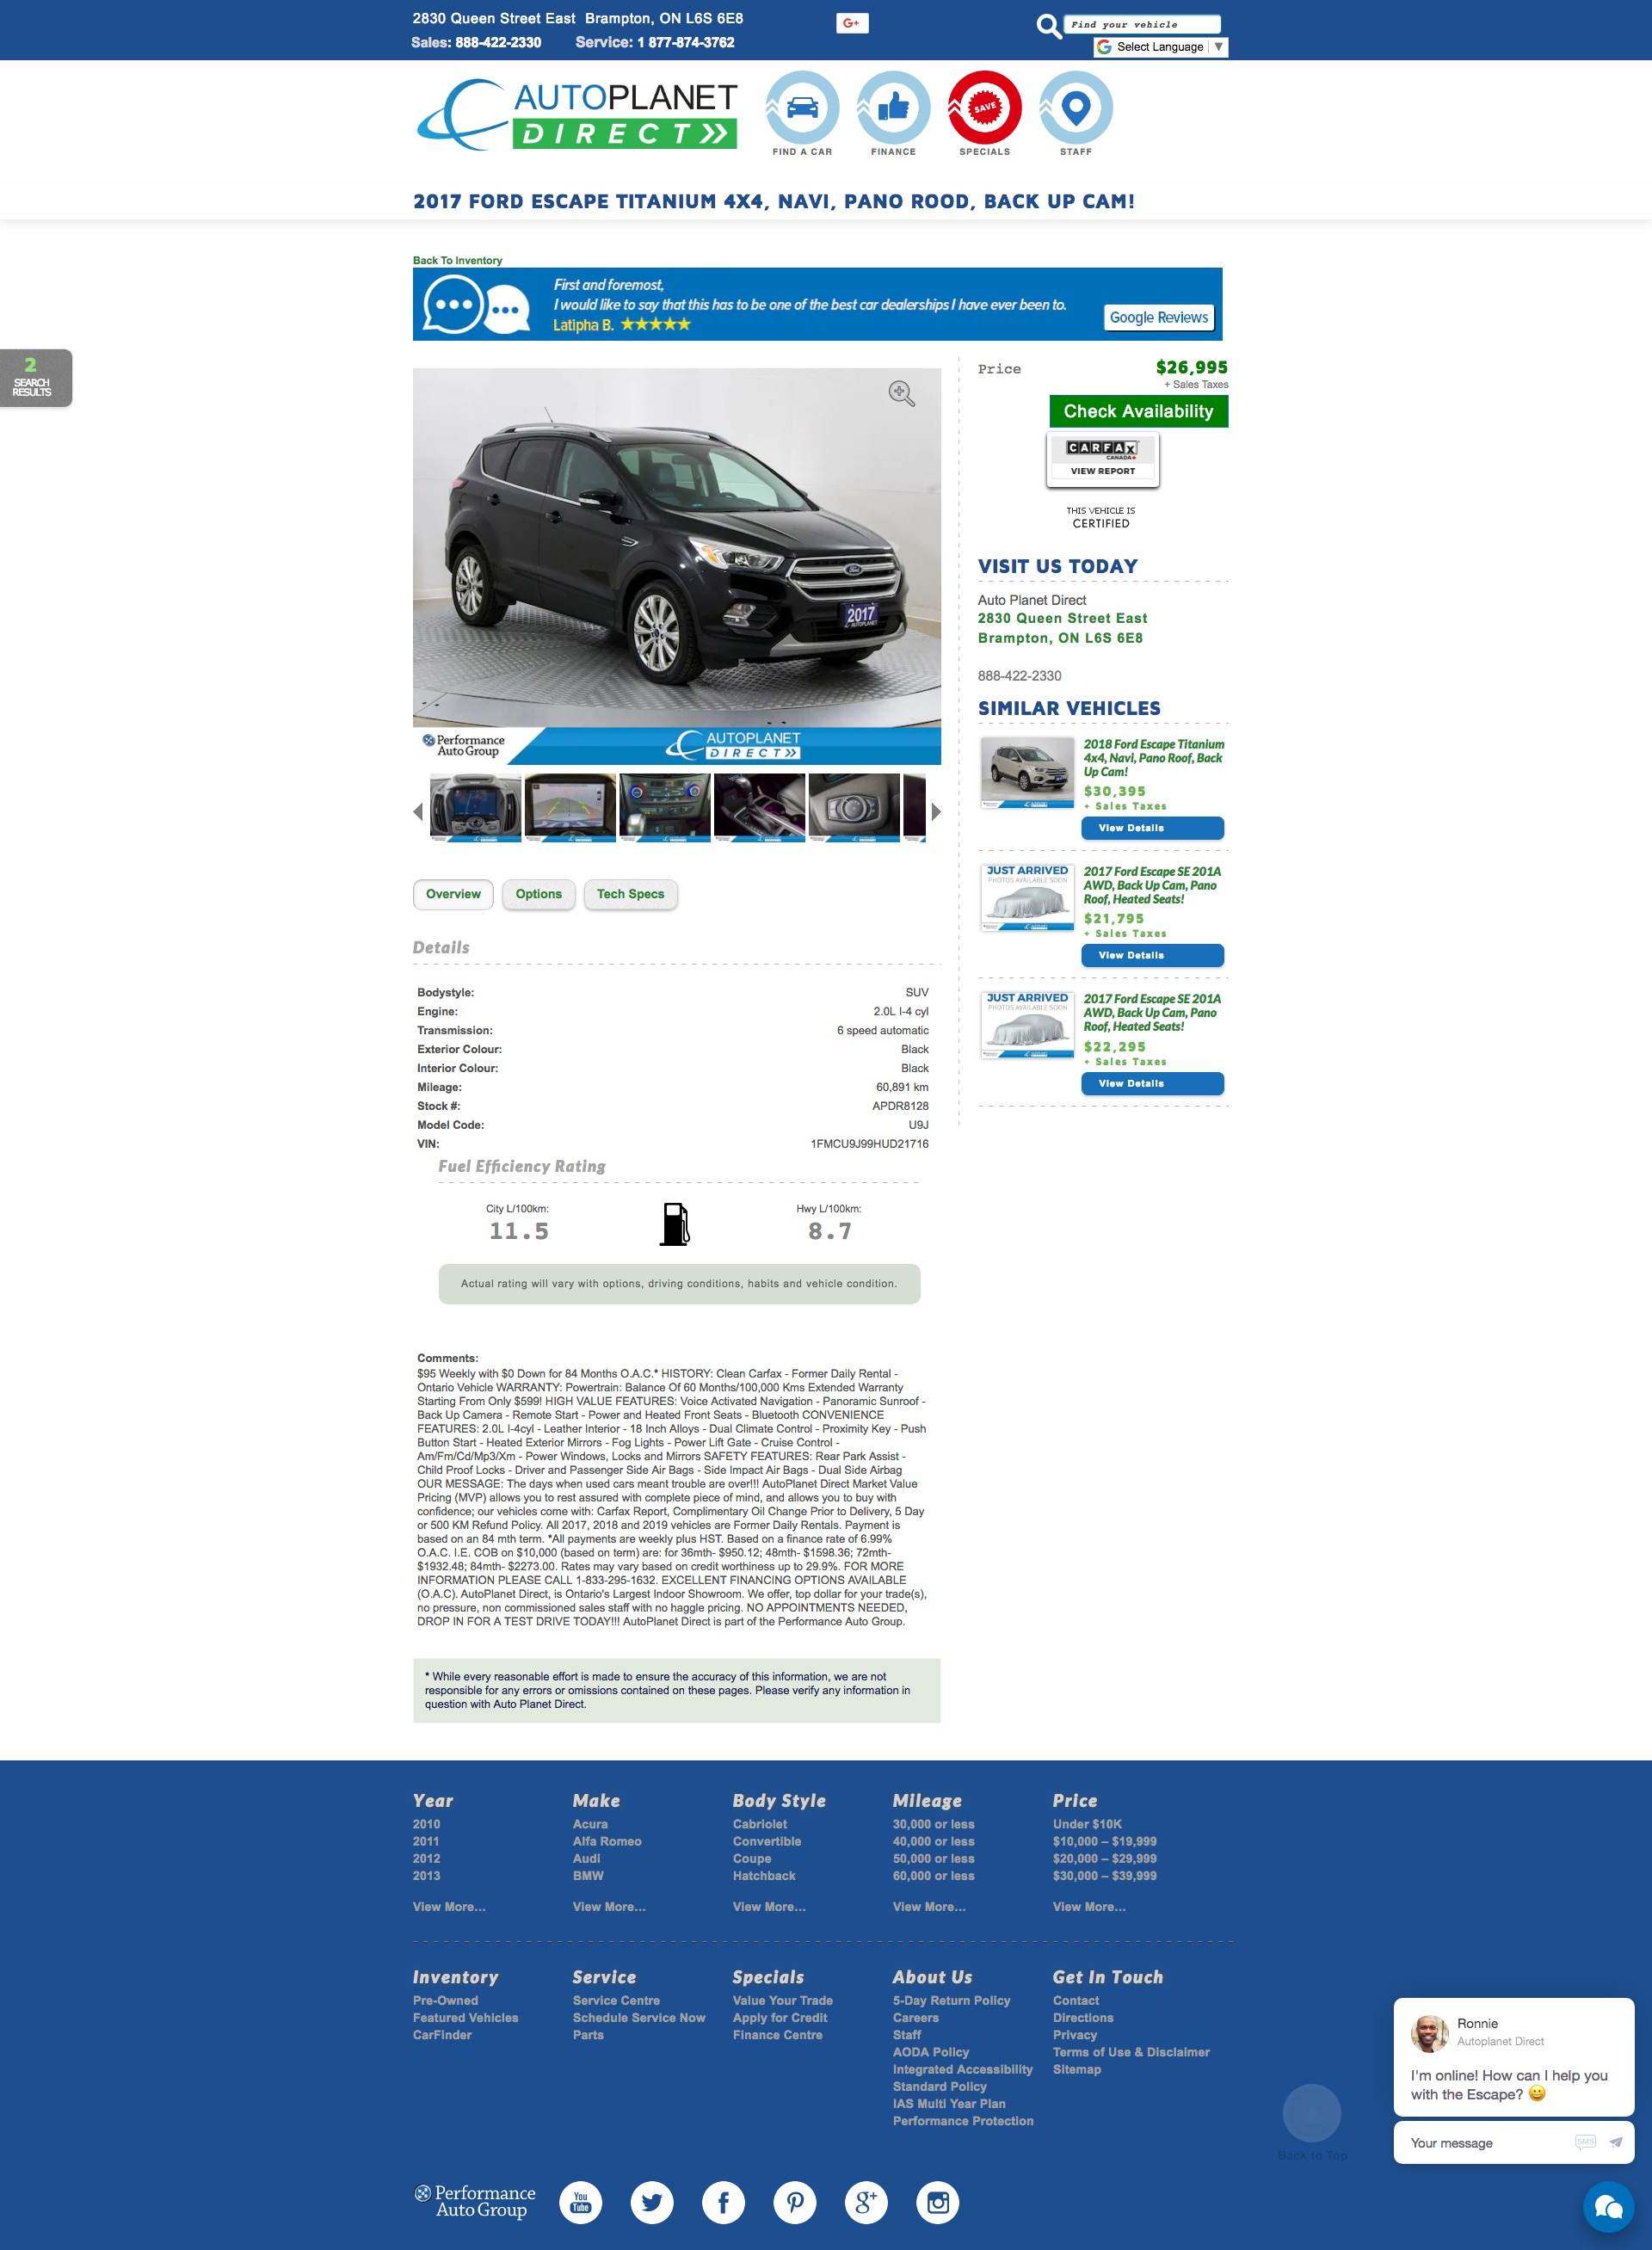car: (931, 802, 943, 823)
